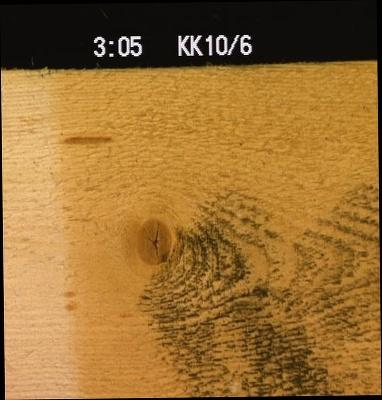sound_knot: (132, 216, 171, 265)
